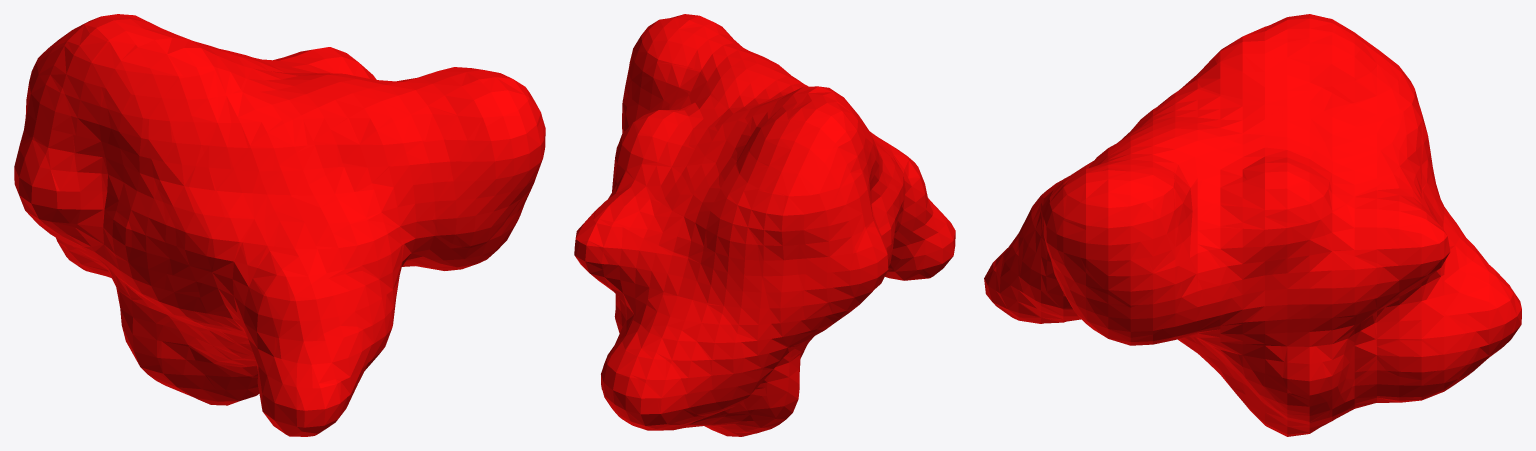
The model's file is azoR_coarse.dae.
The picture shows the model from 3 angles, left to right: view 1: azimuth 30°, elevation 25°; view 2: azimuth 150°, elevation 25°; view 3: azimuth 270°, elevation 25°; orthographic projection. The views are drawn at different scales.
Visible parts, largest first — view 1: azoR; view 2: azoR; view 3: azoR.
Part boxes in pixels (bbox=[...]): azoR: bbox=[14, 14, 545, 436]; azoR: bbox=[574, 14, 955, 436]; azoR: bbox=[984, 14, 1521, 436].
Bounding box in the file's own units: 47.12 × 45.48 × 60.33.
